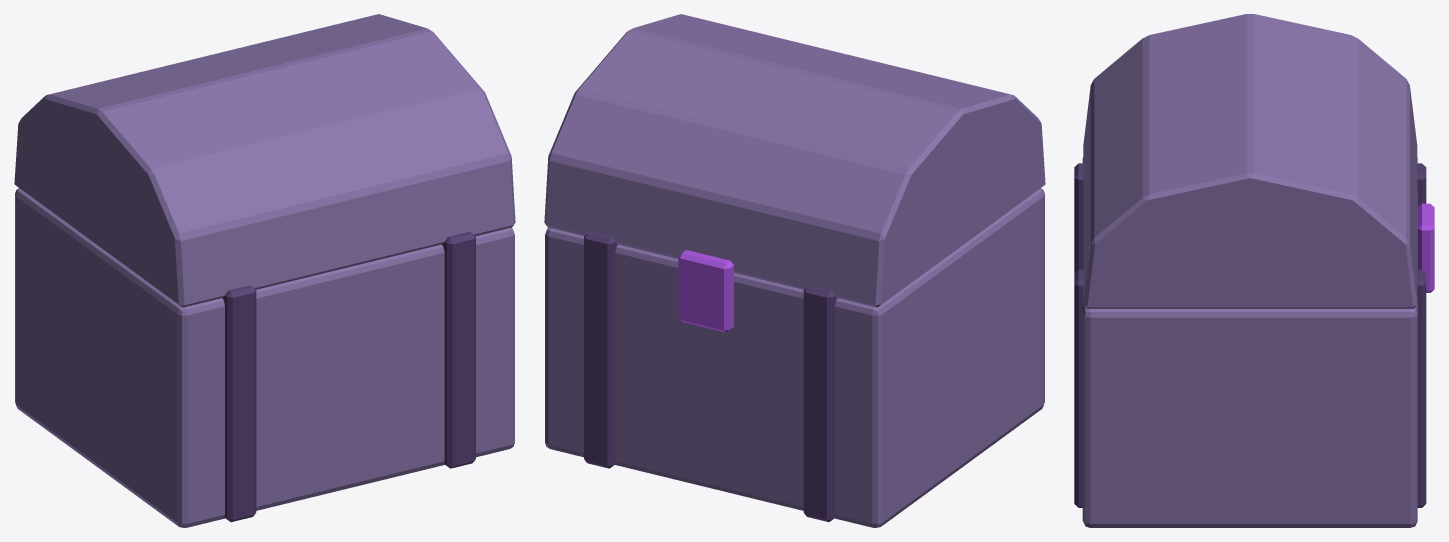
File: corruption_chest_v0.glb
3 renders of one model, left to right at view 1: azimuth 30°, elevation 25°; view 2: azimuth 150°, elevation 25°; view 3: azimuth 270°, elevation 25°, orthographic.
Parts seen in each view (by area): view 1: corruption_chest_v0, lid; view 2: corruption_chest_v0, lid; view 3: lid, corruption_chest_v0.
Boxes of the visible parts, box(x1,y1,x2,y2) form: corruption_chest_v0: box(15, 188, 514, 527); lid: box(14, 14, 515, 307); corruption_chest_v0: box(545, 188, 1044, 527); lid: box(544, 14, 1045, 307); lid: box(1083, 14, 1417, 308); corruption_chest_v0: box(1074, 157, 1434, 527).
Bounding box in the file's own units: 0.92 × 0.9377 × 0.86.
